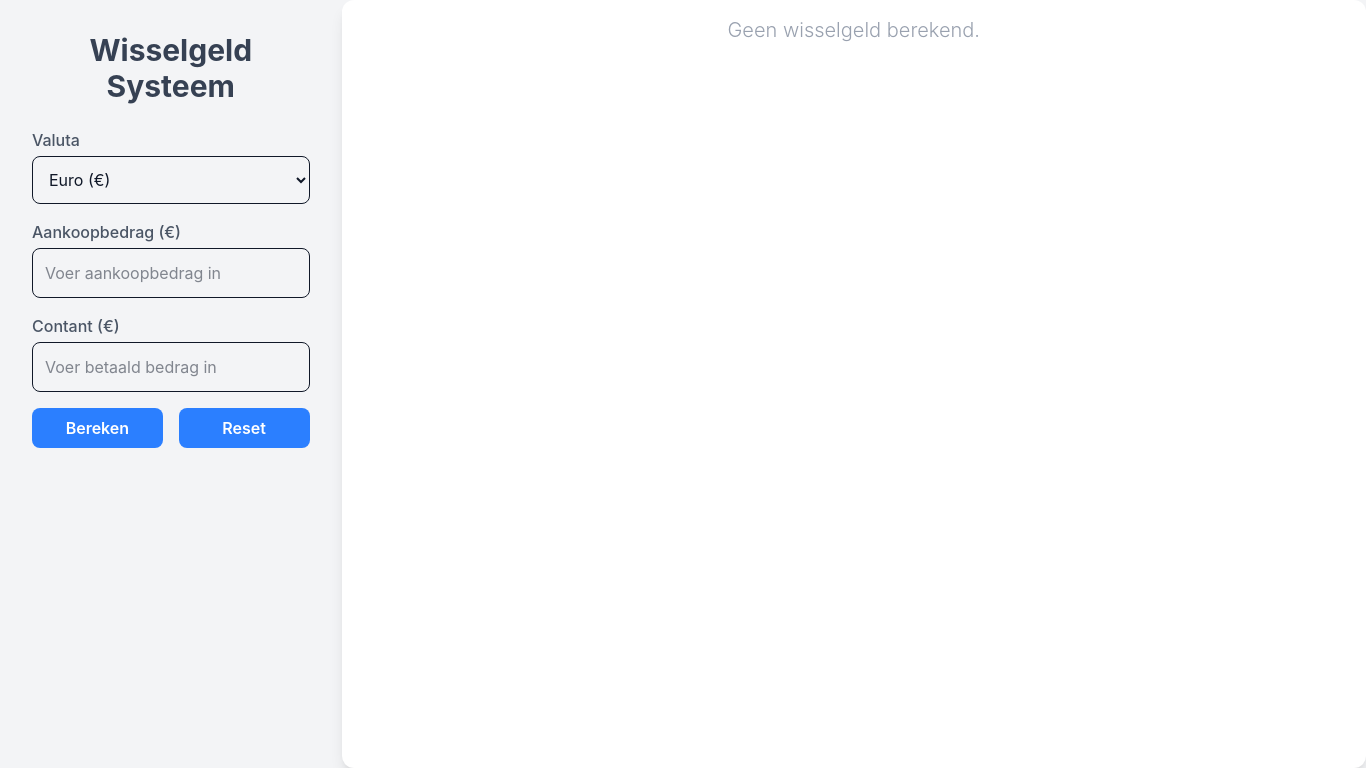
CashRegister Component › 5. Displays the correct change breakdown after API response
Step 1. Type "10" into the number field with placeholder "Voer aankoopbedrag in" → (171, 273), box [32,248,310,298]
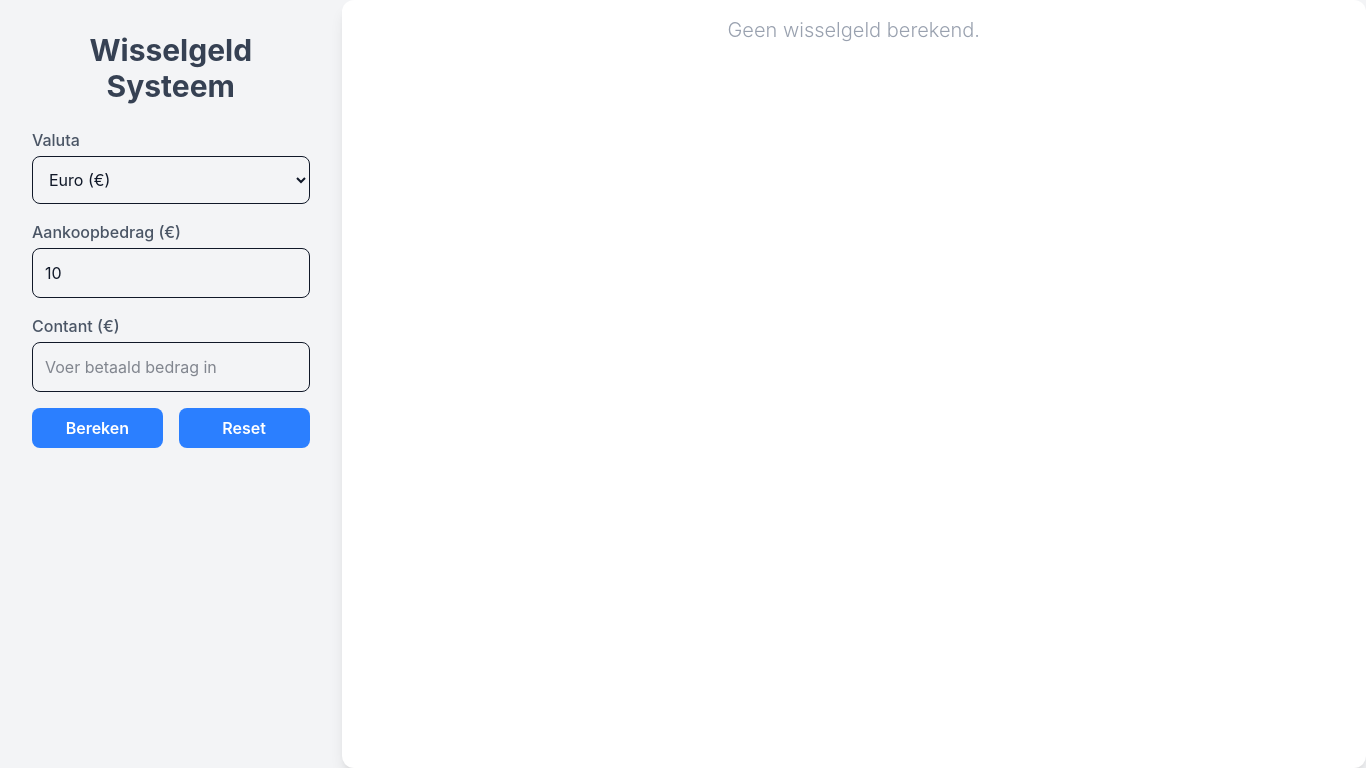
Step 2. Type "20" into the number field with placeholder "Voer betaald bedrag in" → (171, 367), box [32,342,310,392]
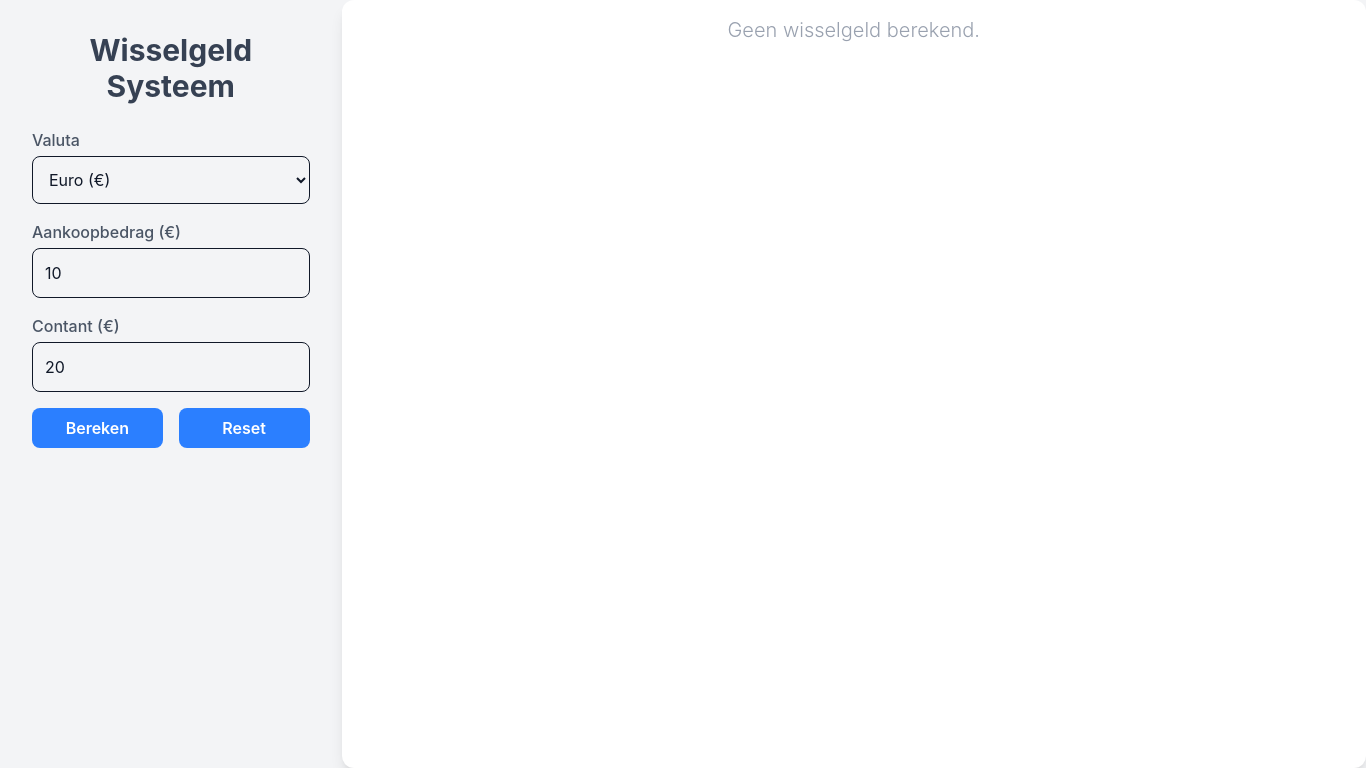
Step 3. Click the button "Bereken" → (97, 428), box [32,408,163,448]
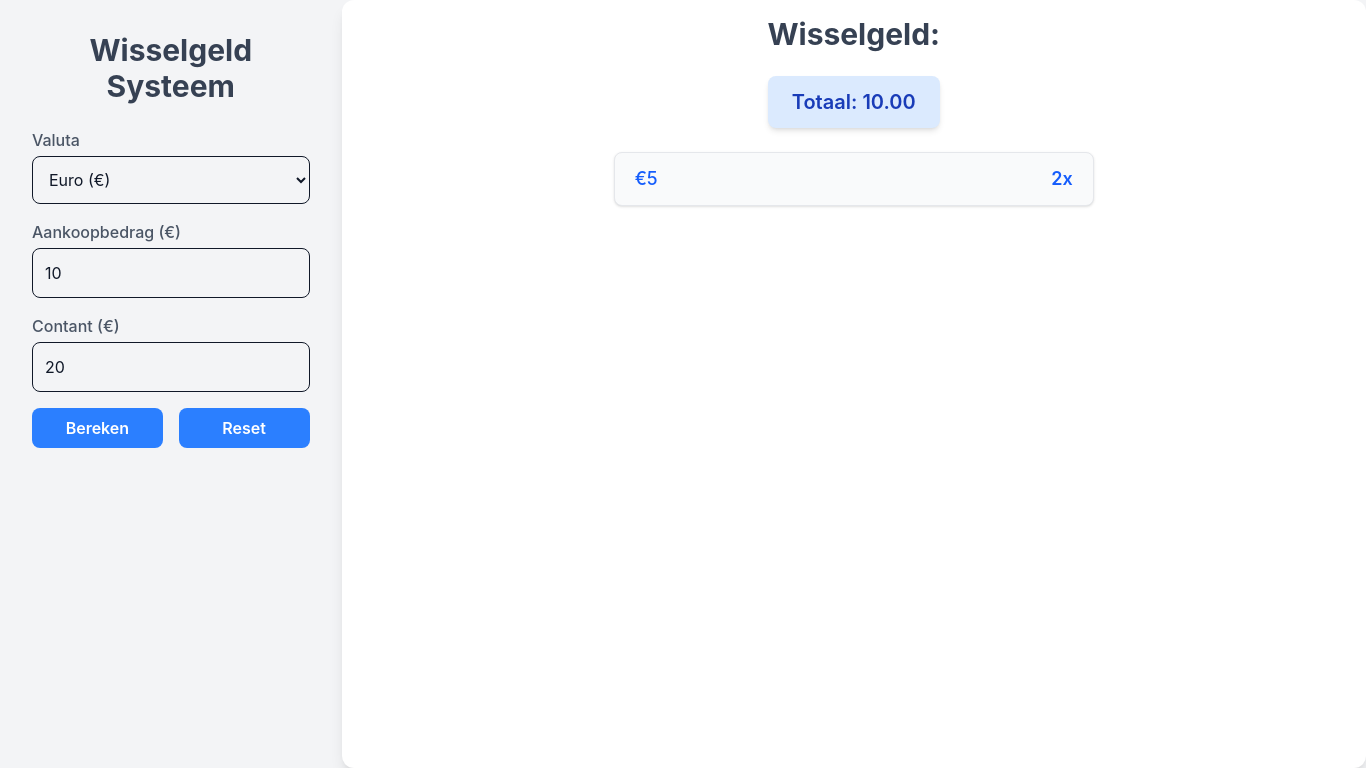
Expected: the text "Totaal: 10.00" is shown, [768,76,940,128]
Expected: the text "€5" is shown, [635,165,658,193]
Expected: the text "2x" is shown, [1051,165,1073,193]
